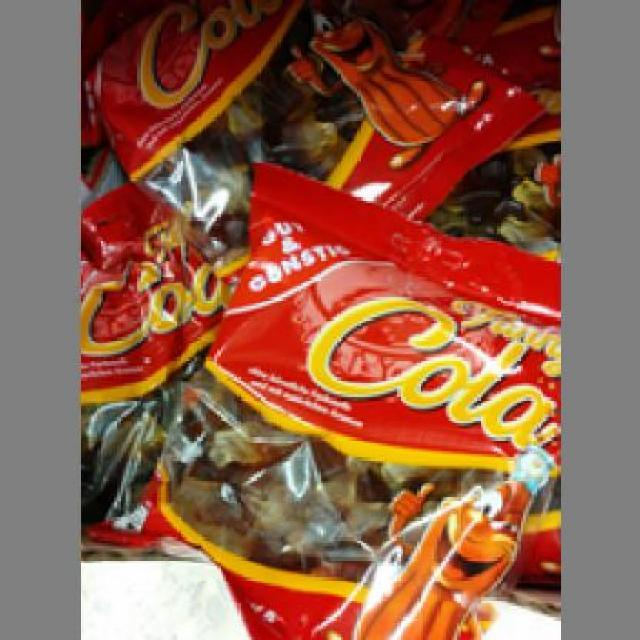Candy: (99, 165, 552, 638)
